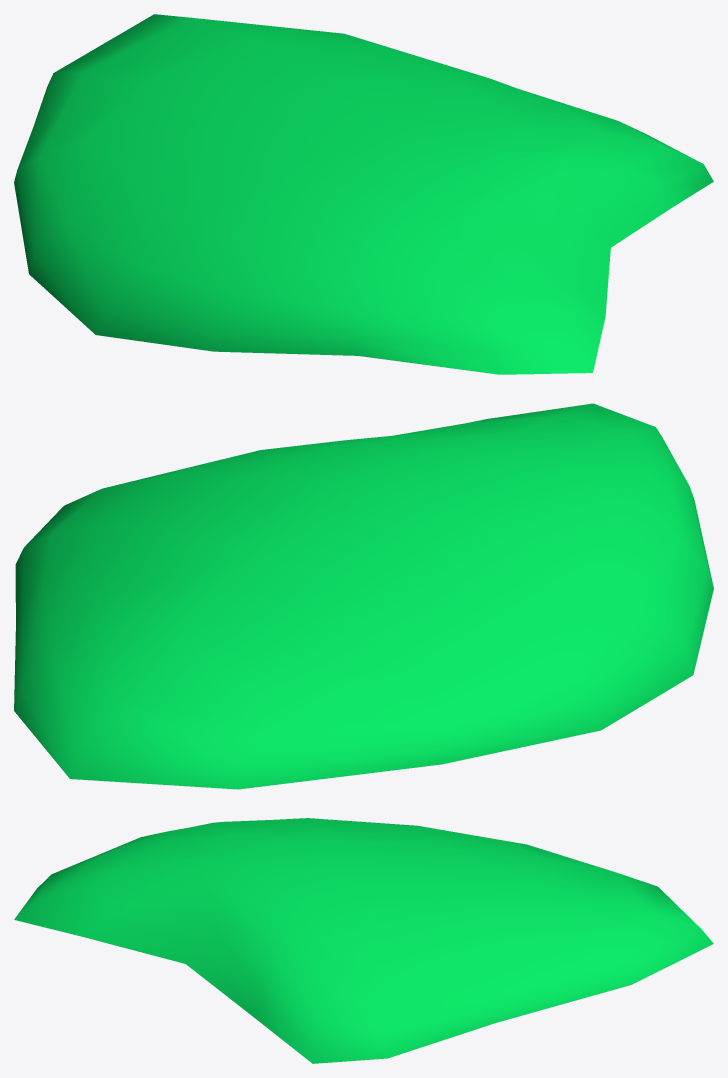
Rendered from Moss_03.fbx.
The picture shows the model from 3 angles, top to bottom: view 1: azimuth 30°, elevation 25°; view 2: azimuth 150°, elevation 25°; view 3: azimuth 270°, elevation 25°; orthographic projection. The views are drawn at different scales.
Parts seen in each view (by area): view 1: Cube; view 2: Cube; view 3: Cube.
Boxes of the visible parts, x1,y1,x2,y2 form: Cube: (14, 14, 713, 374); Cube: (14, 403, 713, 789); Cube: (14, 818, 713, 1063).
Bounding box in the file's own units: 879 × 156 × 1180.
